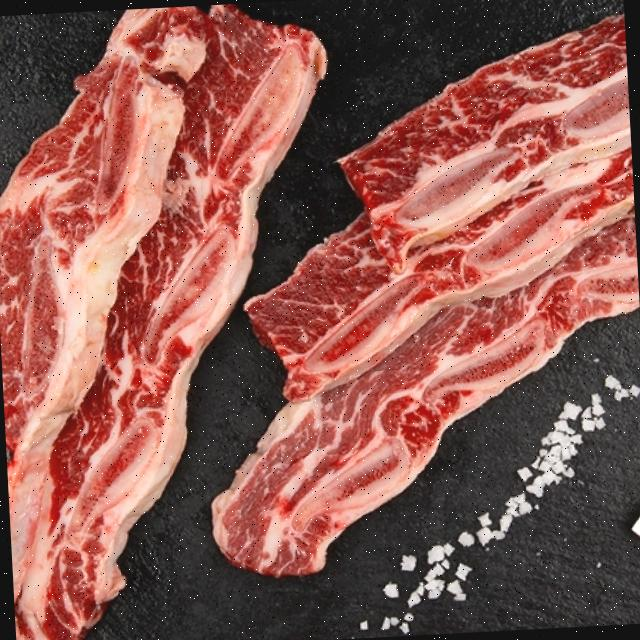meat: (252, 3, 640, 604), (0, 3, 297, 628)
